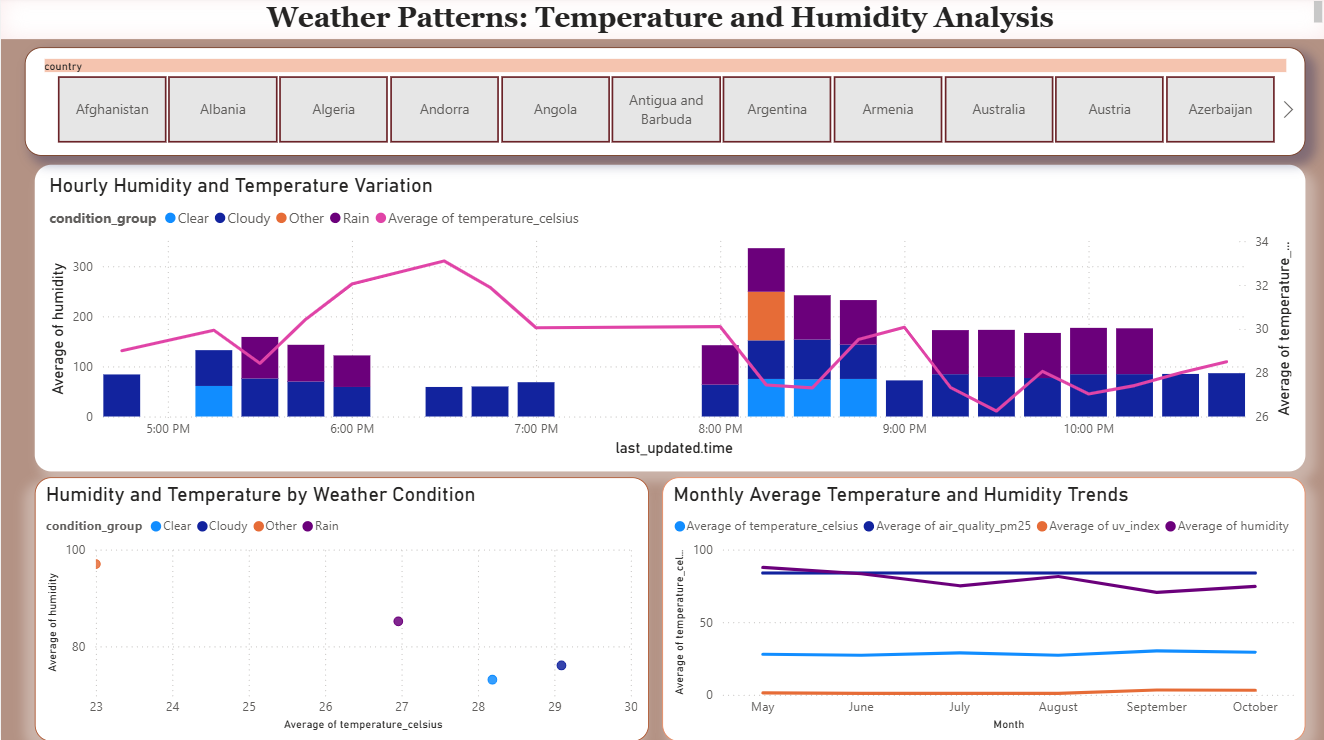

What the dashboard file says about the page in this screenshot:
{"tool":"powerbi","page":{"name":"Temperature and Humidity Analysis","canvas":[1280,720],"ordinal":1},"visuals":[{"type":"lineStackedColumnComboChart","title":"Hourly Humidity and Temperature Variation","fields":{"Series":["weather_data_analysis.condition_group"],"Y2":["Avg(weather_data_analysis.temperature_celsius)"],"Y":["Avg(weather_data_analysis.humidity)"],"Category":["weather_data_analysis.last_updated.time"]},"box":[33,162.6,1226.5,295.9],"z":0},{"type":"scatterChart","title":"Humidity and Temperature by Weather Condition","fields":{"X":["Avg(weather_data_analysis.temperature_celsius)"],"Y":["Avg(weather_data_analysis.humidity)"],"Series":["weather_data_analysis.condition_group"]},"box":[33,464.7,593.1,255.6],"z":1000},{"type":"lineChart","title":"Monthly Average Temperature and Humidity Trends","fields":{"Category":["weather_data_analysis.last_updated.date.Variation.Date Hierarchy.Month"],"Y":["Avg(weather_data_analysis.temperature_celsius)","Avg(air_quality_data_analysis.air_quality_pm25)","Avg(weather_data_analysis.uv_index)","Avg(weather_data_analysis.humidity)"]},"box":[638.3,464.7,621.2,255.6],"z":2000},{"type":"textbox","box":[0,0,1280.3,41.6],"z":3000},{"type":"slicer","fields":{"Values":["air_quality_data_analysis.country"]},"box":[23.2,48.9,1236.3,105.2],"z":4000}]}

Visuals, with their boxes in screenshot pixels (x1, y1, x2, y2), scaled from the page's 1280x720 canvas onto the 1324x740 screenshot:
"Hourly Humidity and Temperature Variation" lineStackedColumnComboChart: region(34, 167, 1303, 471)
"Humidity and Temperature by Weather Condition" scatterChart: region(34, 478, 648, 739)
"Monthly Average Temperature and Humidity Trends" lineChart: region(660, 478, 1303, 739)
textbox: region(0, 0, 1323, 43)
slicer - air_quality_data_analysis.country: region(24, 50, 1303, 158)
